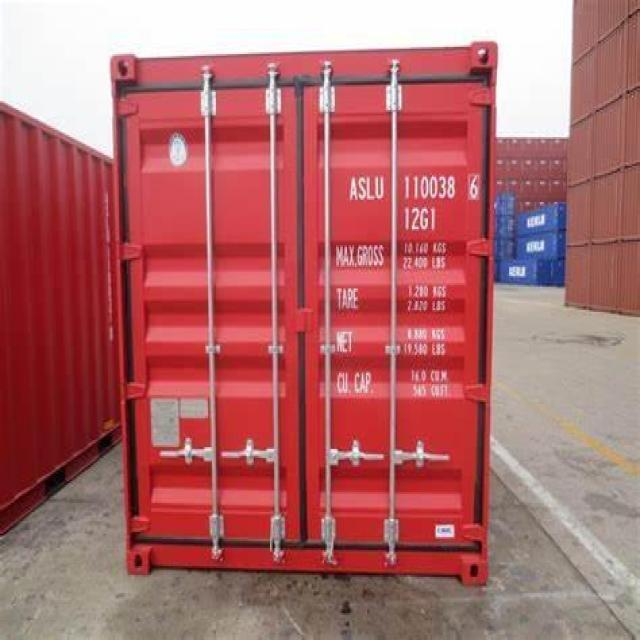ISO: (405, 206, 438, 233)
container_number: (349, 174, 478, 200)
